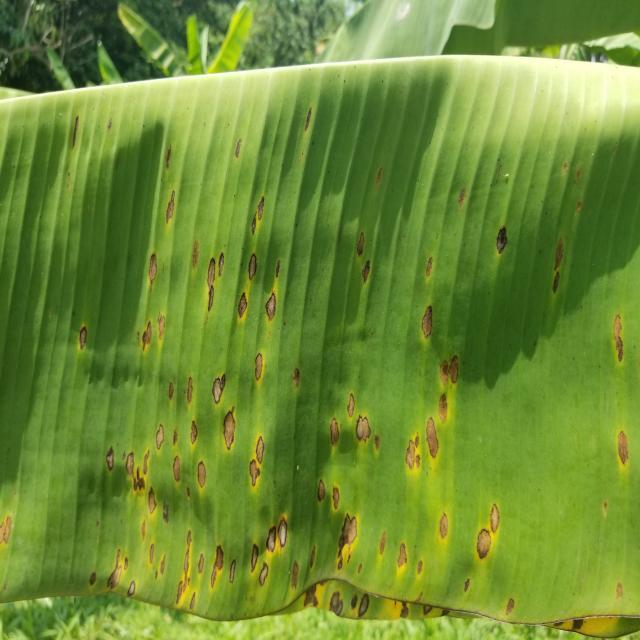Early_rust: (0, 69, 640, 612)
